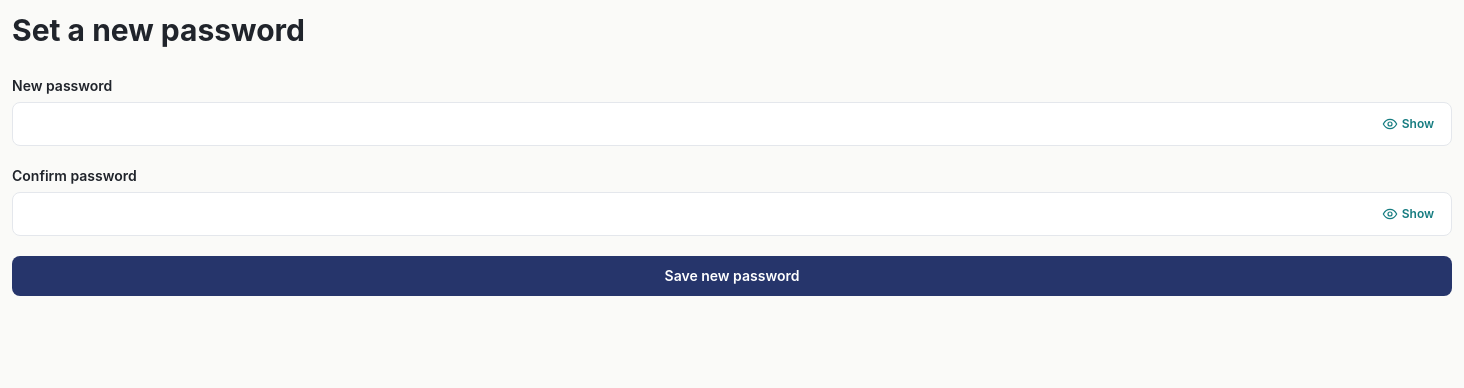
Test: account password security › checks password confirmation before submitting reset token
This screenshot has width=1464, height=388.
In the password field labelled "New password": (732, 124) x1=12 y1=102 x2=1452 y2=146, type "NewVeryLongPassword54!"
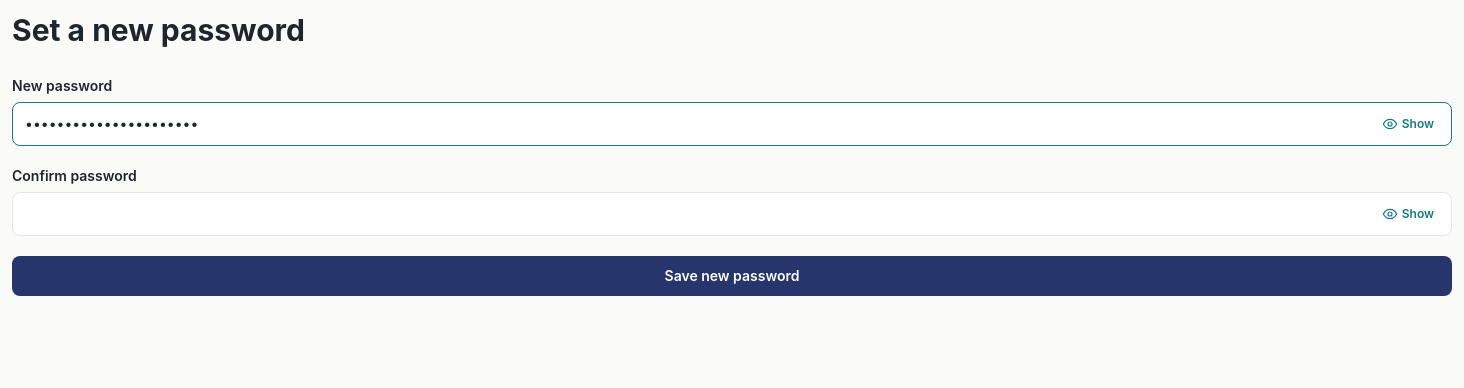
In the password field labelled "Confirm password": (732, 214) x1=12 y1=192 x2=1452 y2=236, type "DifferentPassword!56"
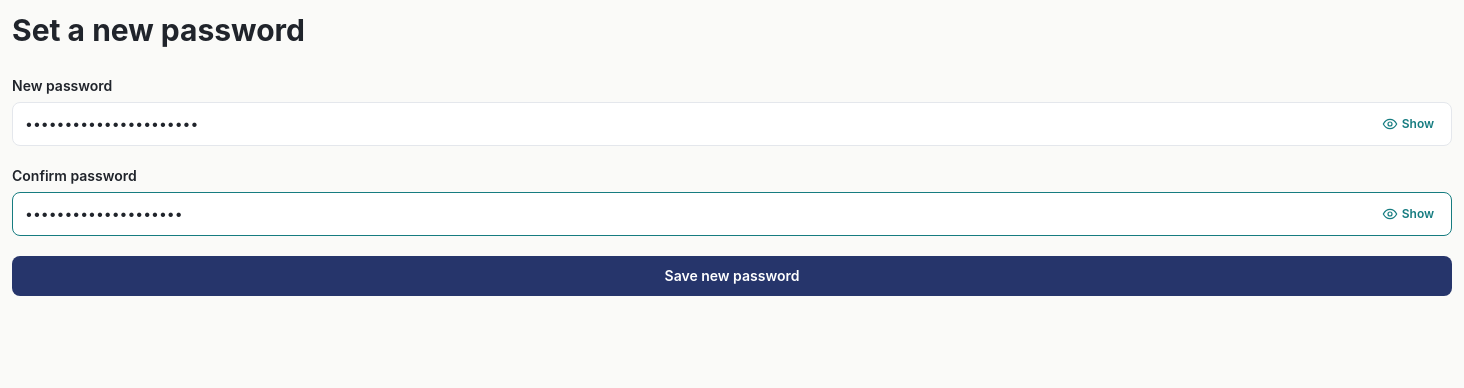
Click the button "Save new password": (732, 276) x1=12 y1=256 x2=1452 y2=296
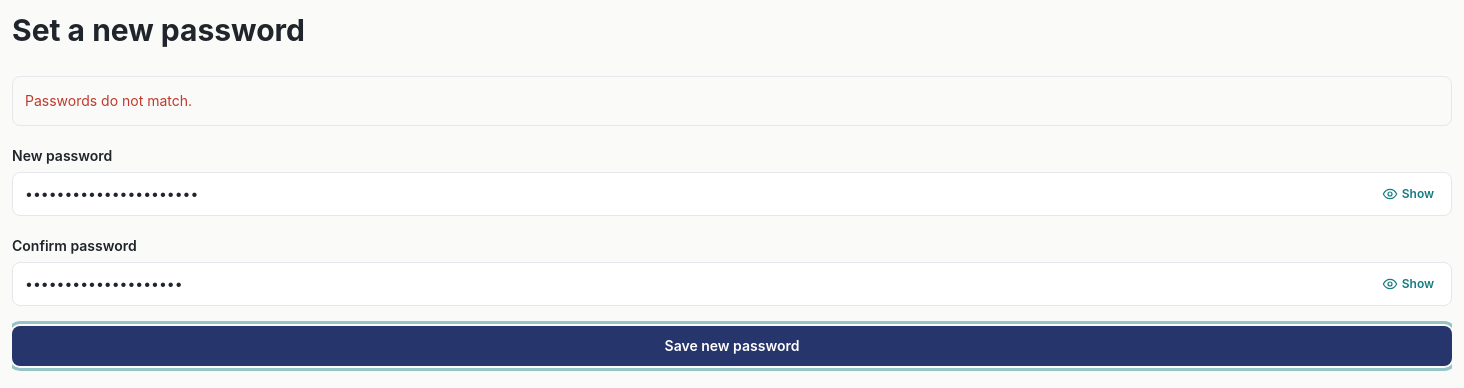
Expected: the text "Passwords do not match." is shown, x1=12 y1=76 x2=1452 y2=126
In the password field labelled "Confirm password": (732, 284) x1=12 y1=262 x2=1452 y2=306, type "NewVeryLongPassword54!"
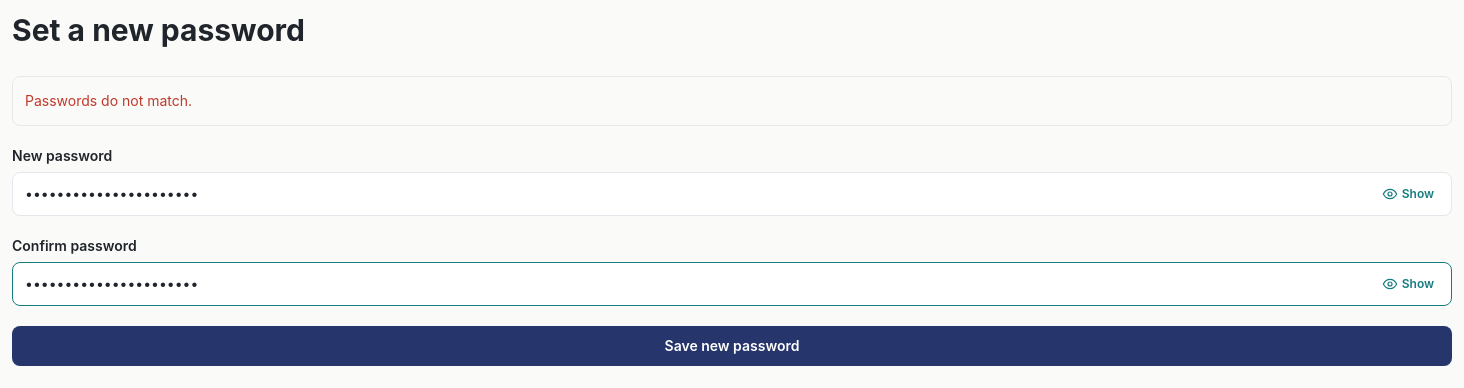
Click the button "Save new password": (732, 346) x1=12 y1=326 x2=1452 y2=366
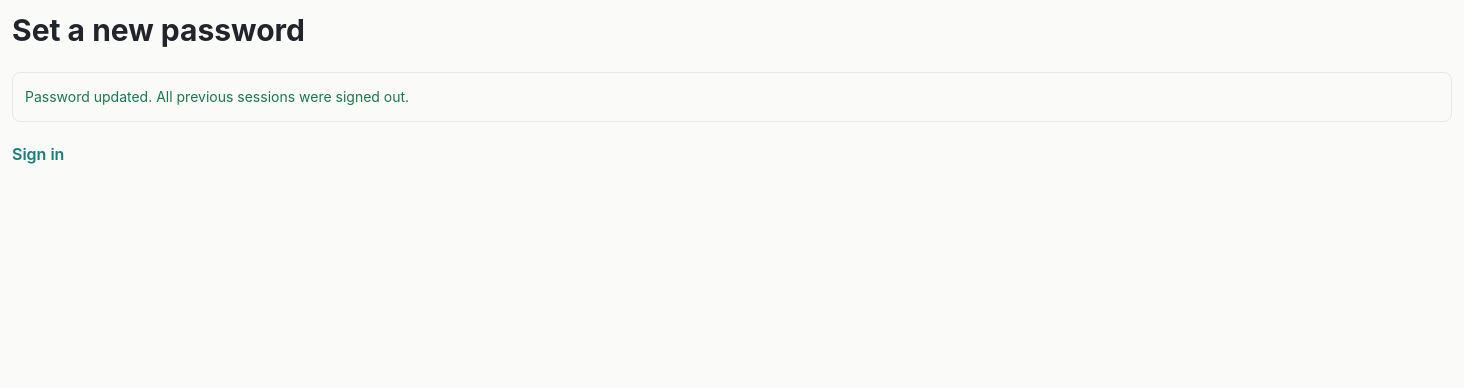
Expected: the text "Password updated. All previous sessions were signed out." is shown, x1=12 y1=72 x2=1452 y2=122
